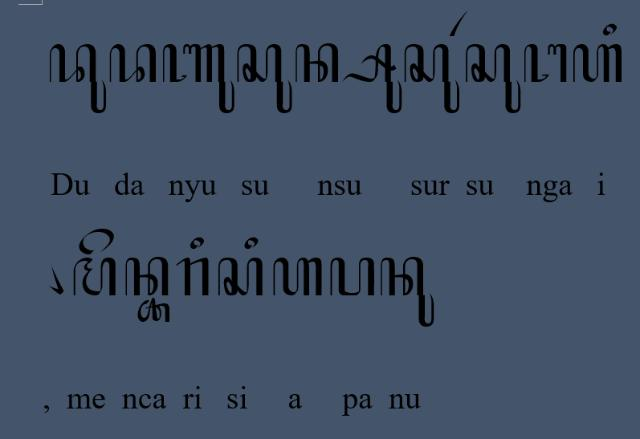_c: (137, 296, 171, 324)
_r1: (446, 8, 469, 36)
_su: (342, 42, 402, 114)
d: (108, 42, 158, 84)
du: (48, 42, 108, 114)
e: (77, 226, 115, 256)
h: (270, 256, 324, 298), (572, 43, 626, 84)
i: (242, 235, 260, 251), (602, 23, 618, 38), (190, 235, 204, 251)
kom: (49, 264, 65, 296)
m: (72, 255, 118, 297)
n: (124, 256, 170, 298), (294, 42, 338, 84)
nga: (523, 42, 567, 84)
nu: (380, 256, 436, 328)
nyu1: (162, 42, 236, 114)
p: (329, 257, 376, 297)
r: (175, 256, 211, 296)
s: (217, 256, 265, 298)
su: (234, 41, 294, 116), (402, 42, 462, 114), (465, 43, 521, 113)
